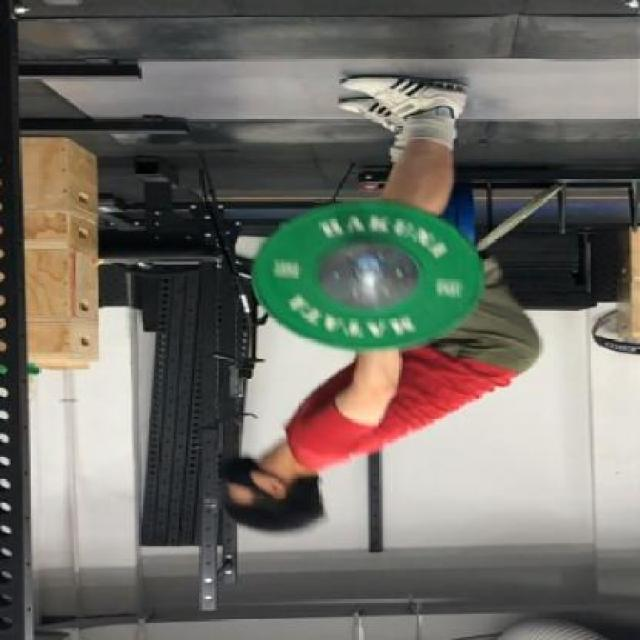Barbell: (343, 246, 392, 277)
